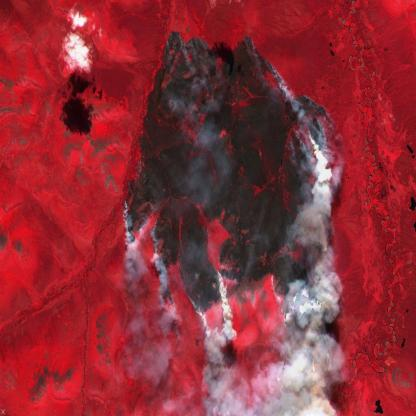fire: (120, 23, 341, 401)
